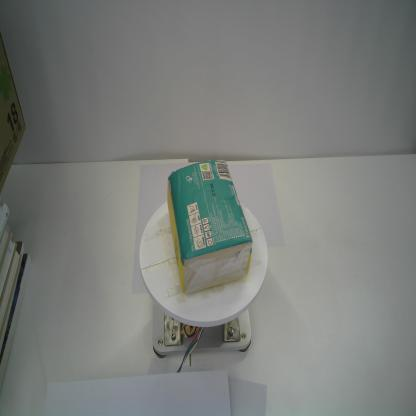Tissue: (167, 158, 253, 296)
